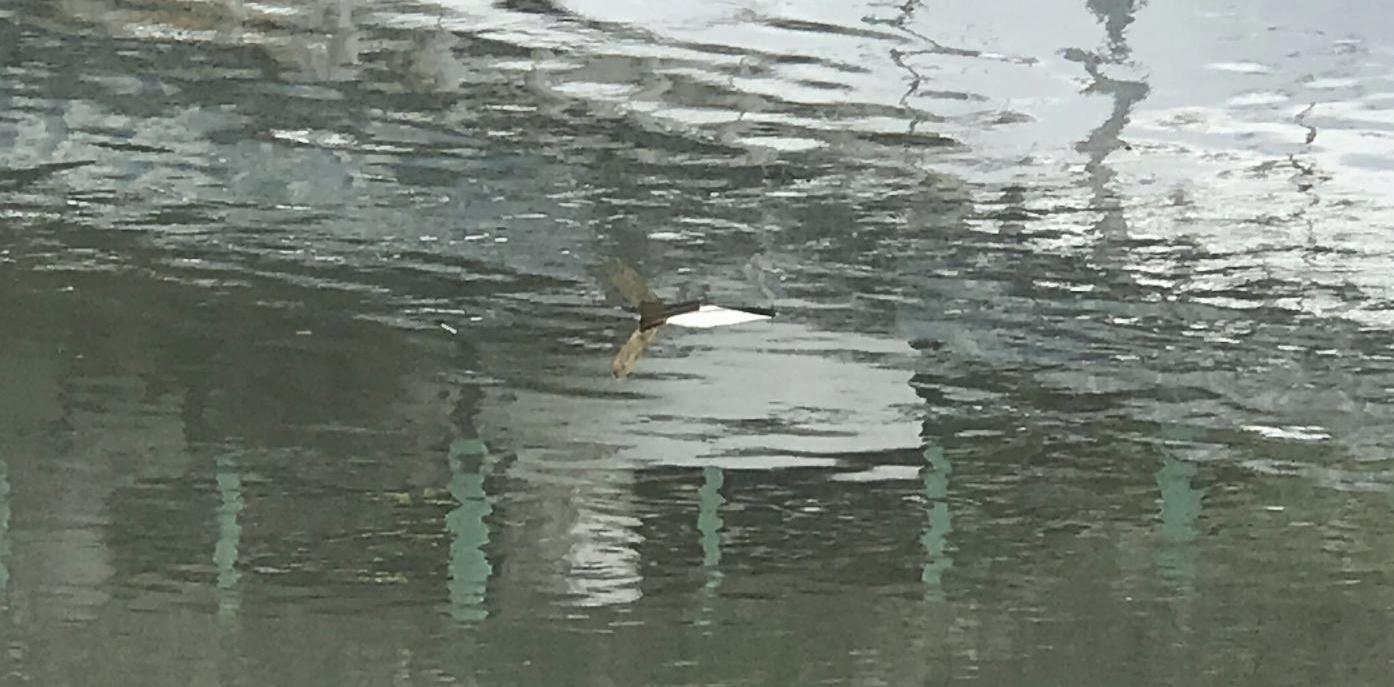Trash: (638, 298, 775, 334), (607, 324, 660, 388)
